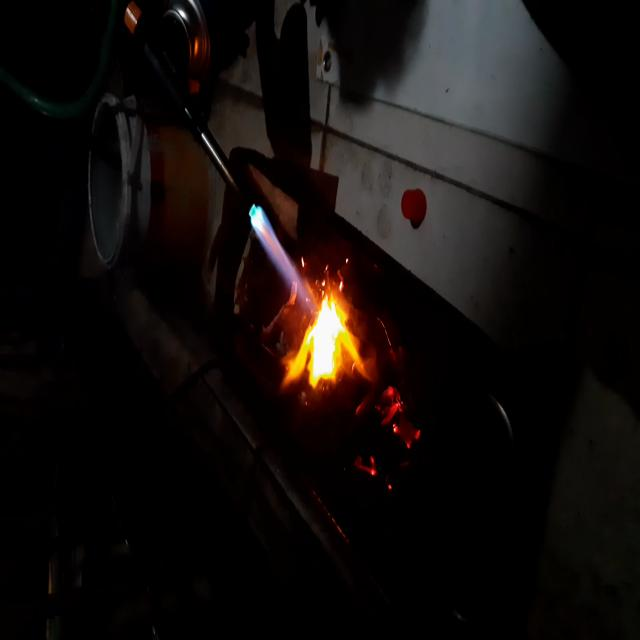Fire: (360, 368, 431, 525), (286, 278, 375, 398), (248, 194, 305, 298)
